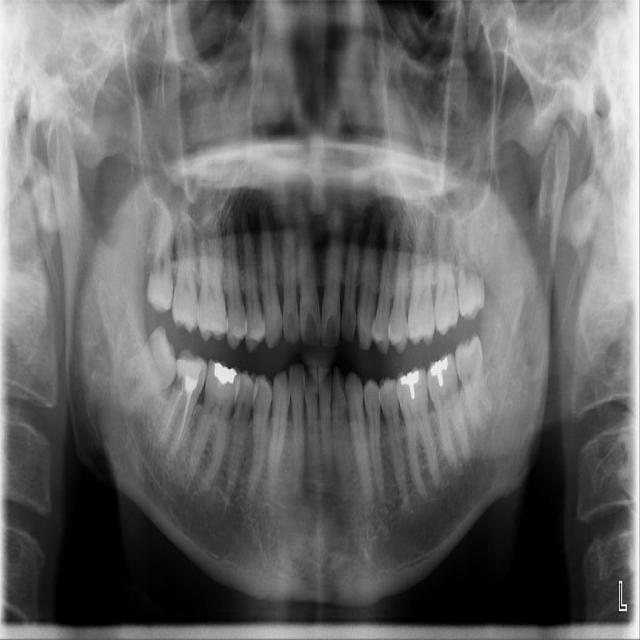Filling: (174, 348, 208, 384), (398, 367, 421, 400), (211, 361, 237, 385), (430, 356, 449, 386)
Root Canal Treatment: (163, 389, 179, 434), (175, 395, 187, 443)
impacted tooth: (107, 328, 174, 411), (454, 333, 496, 436)
